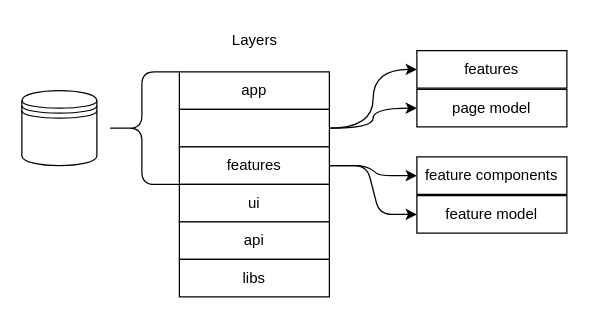
The diagram is 589 pixels wide and 319 high, and some of its shapes have lost their labels. The shapes that lost their labels are listed below. From the top down, each one's centre as x and y in pixels, then its label:
At (x=59, y=127): "app data model".
At (x=253, y=127): "pages".
